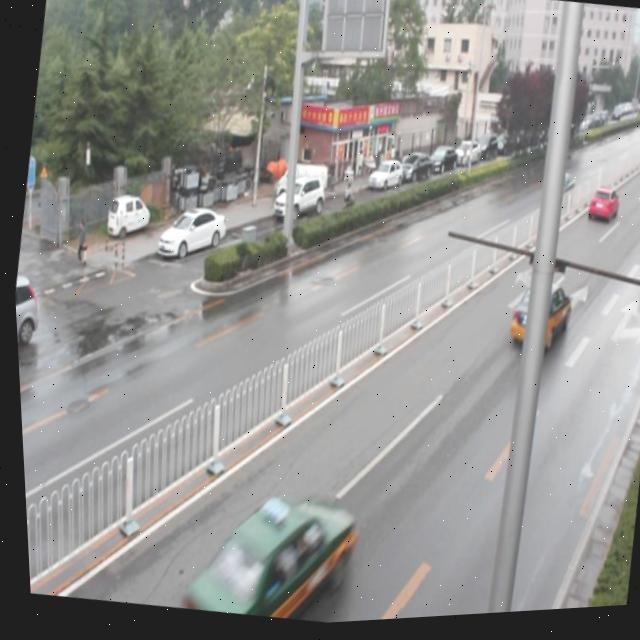car: (167, 479, 356, 633), (501, 282, 571, 360), (579, 188, 619, 235), (540, 174, 575, 211), (637, 196, 640, 248)
